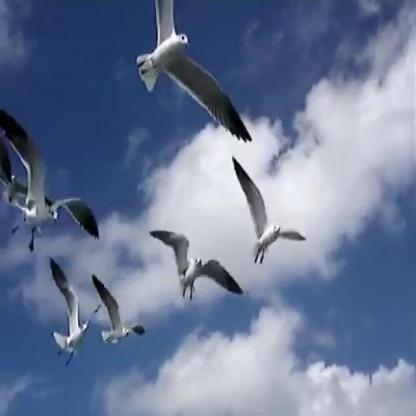bird: (117, 0, 261, 142), (229, 157, 296, 277), (0, 140, 76, 240), (152, 229, 243, 301), (46, 267, 101, 367), (86, 301, 153, 348)
